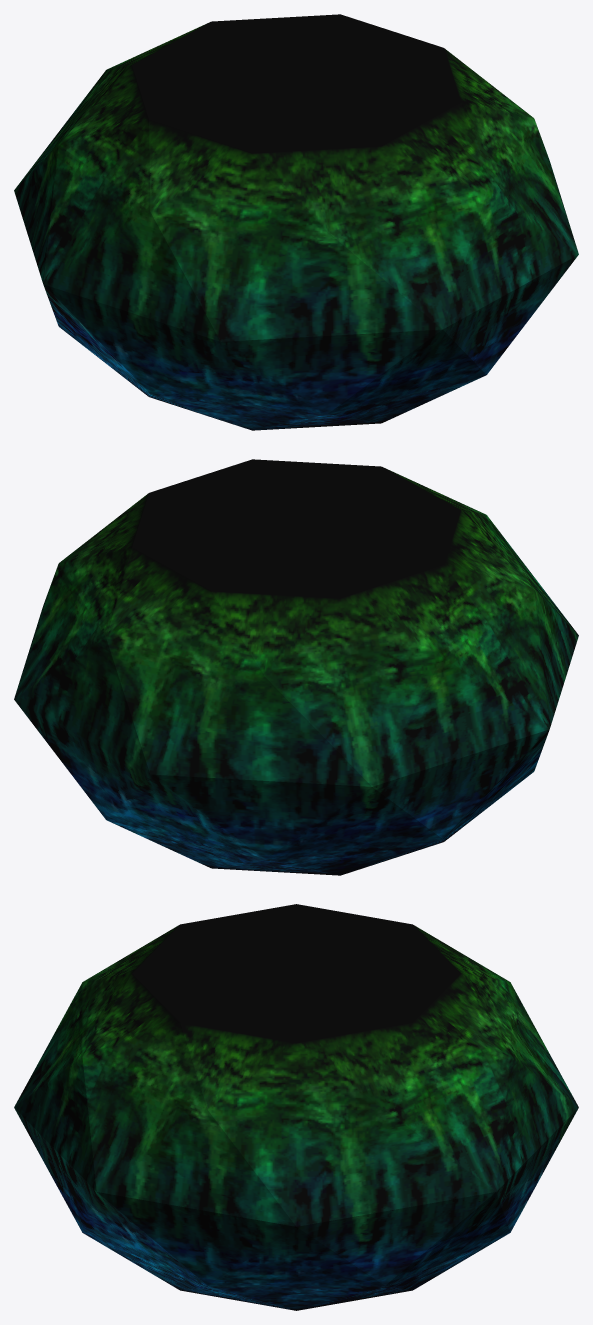
3 renders of one model, top to bottom at view 1: azimuth 30°, elevation 25°; view 2: azimuth 150°, elevation 25°; view 3: azimuth 270°, elevation 25°, orthographic. The views are drawn at different scales.
Parts seen in each view (by area): view 1: vr10; view 2: vr10; view 3: vr10.
Boxes of the visible parts, x1,y1,x2,y2 form: vr10: (14, 14, 578, 430); vr10: (14, 459, 578, 875); vr10: (14, 904, 578, 1310).
Bounding box in the file's own units: 117964 × 61688 × 117964.
Materials: 1 (1 with a texture image).
